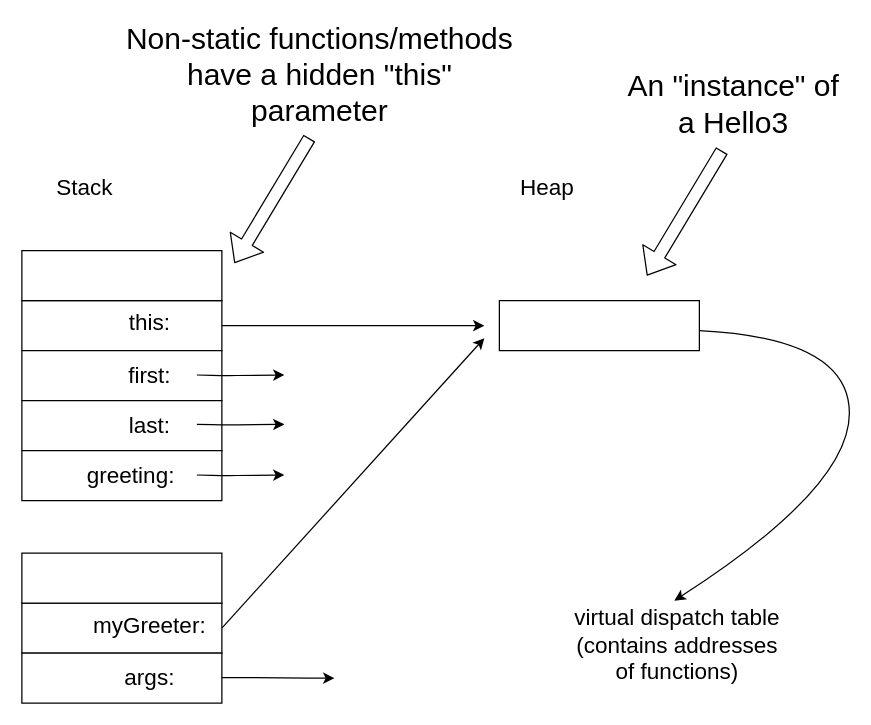
Image size: 871x725. Some labels were removed from this diagram. Each missing label, with the box of its shape:
go:: (21, 249, 222, 301)
main:: (21, 552, 222, 603)
